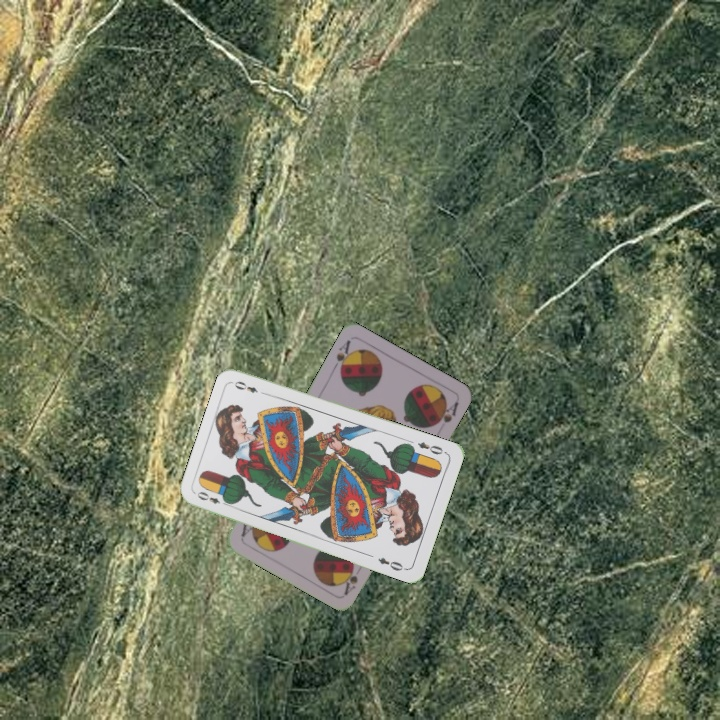EO: (193, 487, 232, 509), (413, 438, 449, 457)
SA: (328, 335, 356, 377), (340, 563, 361, 597)
